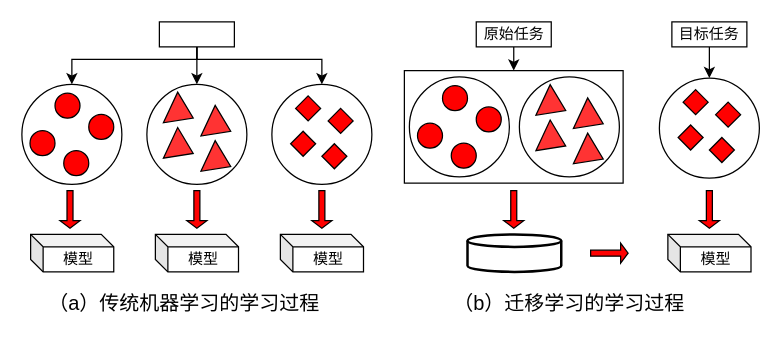
The diagram is 781 pixels wide and 344 high, and some of its shapes have lost their labels. Each missing label, with the centre of its shape:
"不同任务" goes at point 196,34.
"知识库" goes at point 514,252.
